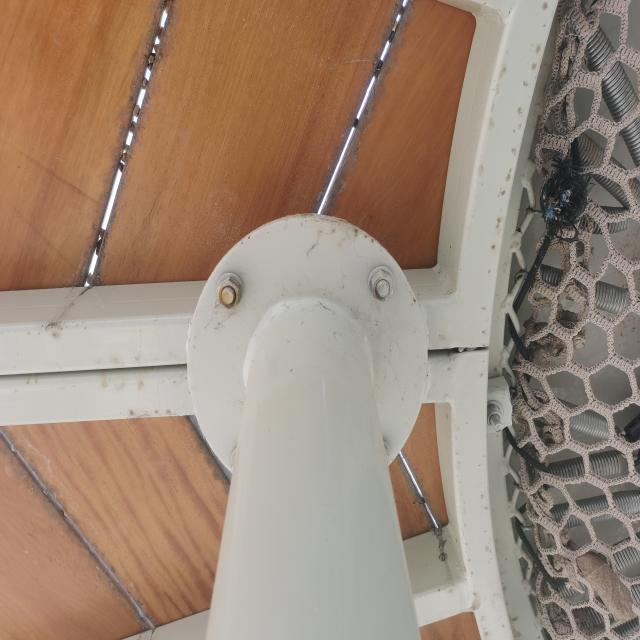bolt nut: (217, 274, 243, 310), (368, 268, 394, 303), (484, 404, 504, 432)
